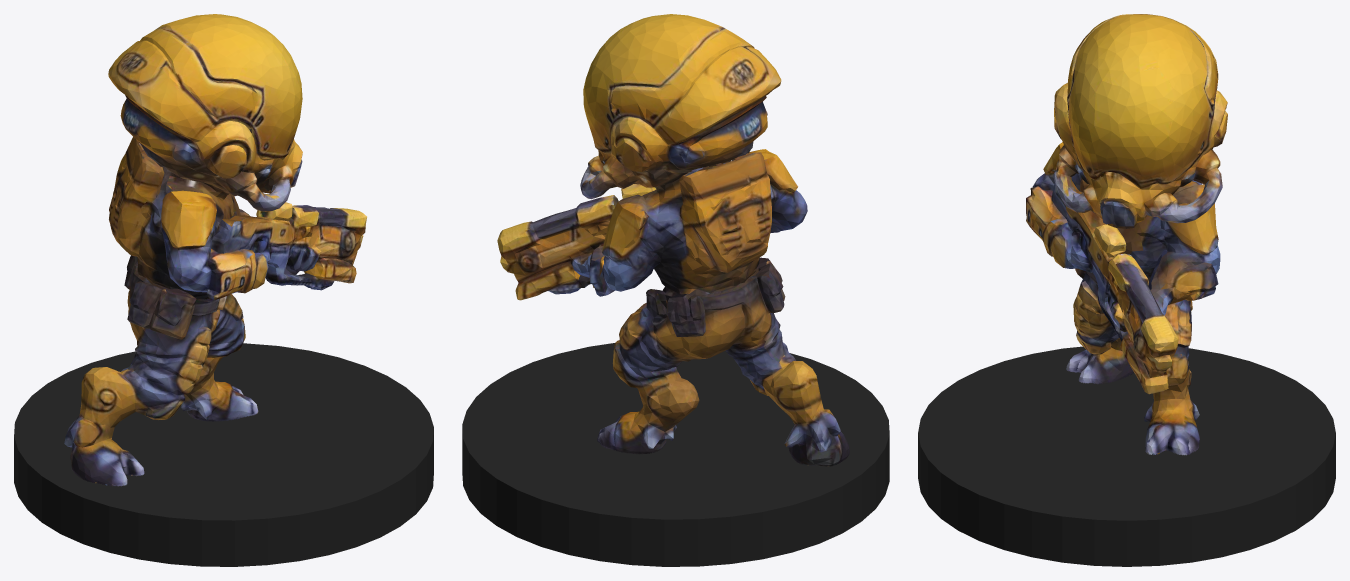
The model's file is pf-shasla-c.glb.
The picture shows the model from 3 angles, left to right: view 1: azimuth 30°, elevation 25°; view 2: azimuth 150°, elevation 25°; view 3: azimuth 270°, elevation 25°; orthographic projection. The views are drawn at different scales.
Parts seen in each view (by area): view 1: figure, base; view 2: figure, base; view 3: base, figure.
Boxes of the visible parts, <box> form: figure: <box>64,14,366,486</box>; base: <box>14,343,433,566</box>; figure: <box>497,14,849,466</box>; base: <box>462,343,889,566</box>; base: <box>918,346,1335,566</box>; figure: <box>1026,14,1227,455</box>.
Bounding box in the file's own units: 0.9843 × 1.17 × 0.9843.
2 materials, 1 textured.
